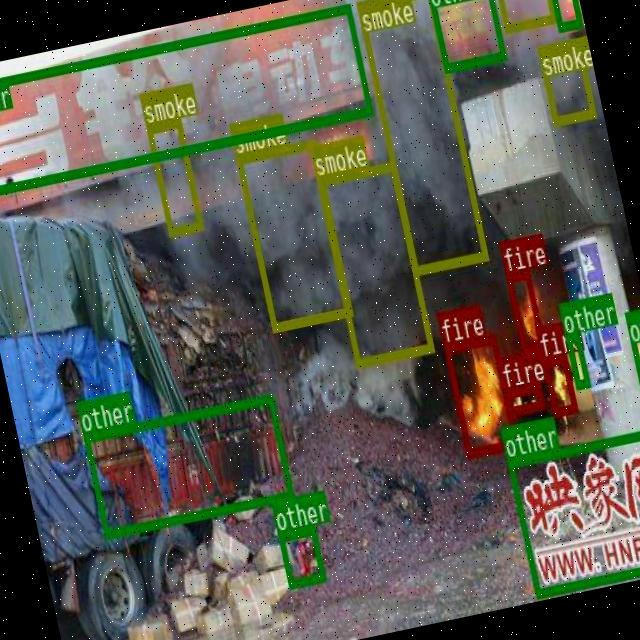fire: (442, 332, 518, 456), (504, 268, 544, 349), (540, 352, 576, 415), (502, 382, 544, 414)
smoke: (355, 0, 487, 273), (316, 160, 433, 366), (234, 138, 352, 331), (144, 116, 202, 235), (535, 38, 595, 124), (490, 0, 556, 31)
